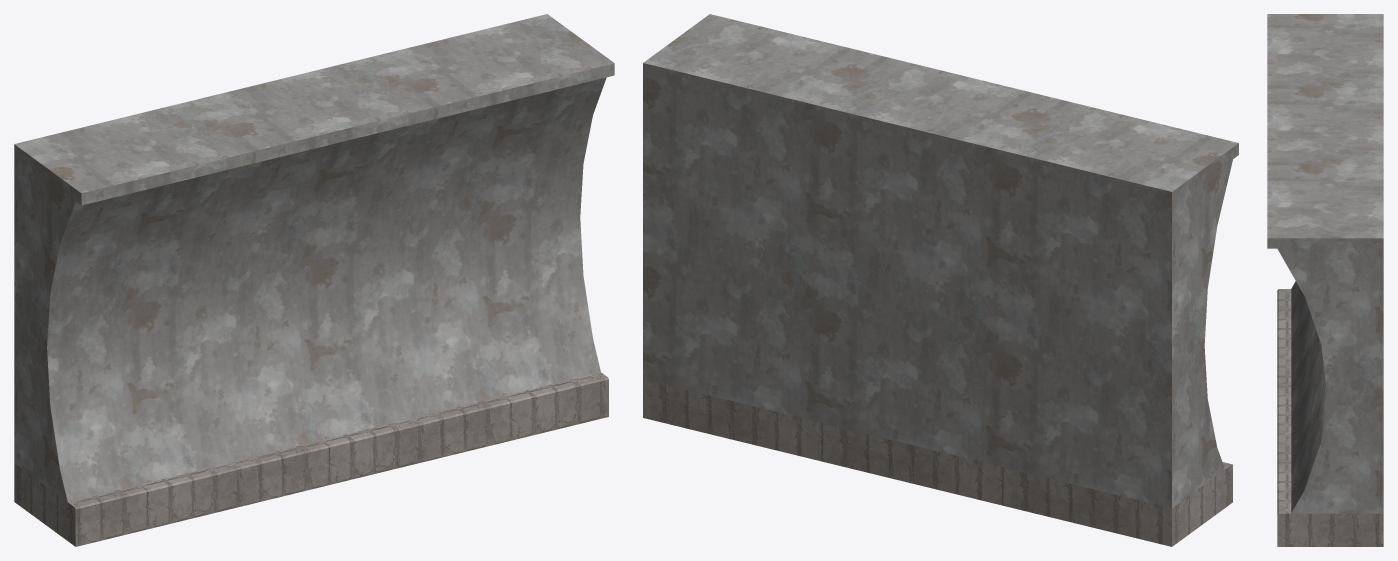
Rendered from SewerSetWall2.fbx.
3 renders of one model, left to right at view 1: azimuth 30°, elevation 25°; view 2: azimuth 150°, elevation 25°; view 3: azimuth 270°, elevation 25°, orthographic. The views are drawn at different scales.
Visible parts, largest first — view 1: Box040; view 2: Box040; view 3: Box040.
Boxes of the visible parts, <box> form: Box040: <box>14,14,614,546</box>; Box040: <box>643,14,1238,546</box>; Box040: <box>1267,14,1383,546</box>.
Bounding box in the file's own units: 2500 × 1603 × 547.
